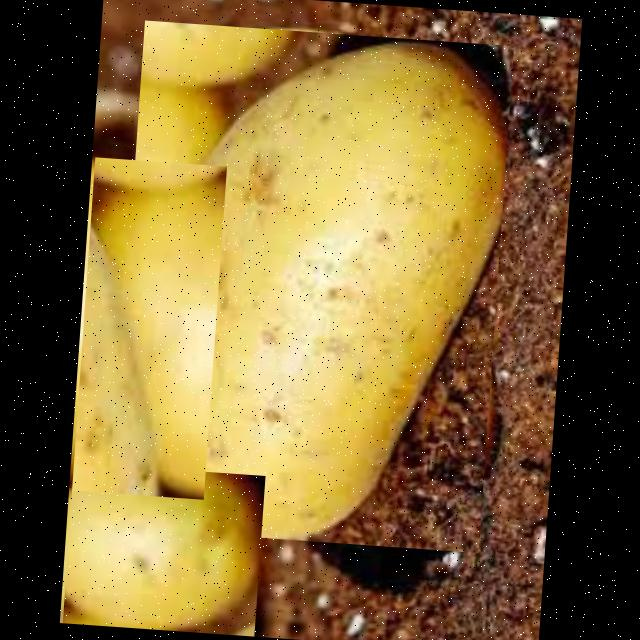Potato: (109, 19, 514, 552), (72, 156, 226, 498), (62, 461, 265, 636)
